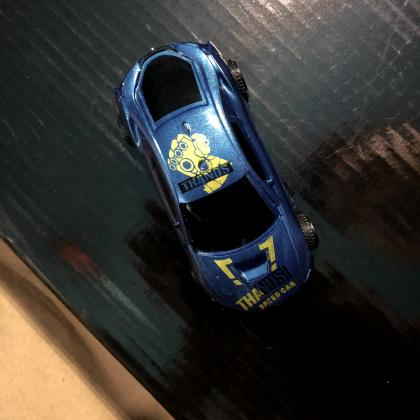Car: (115, 42, 313, 315)
